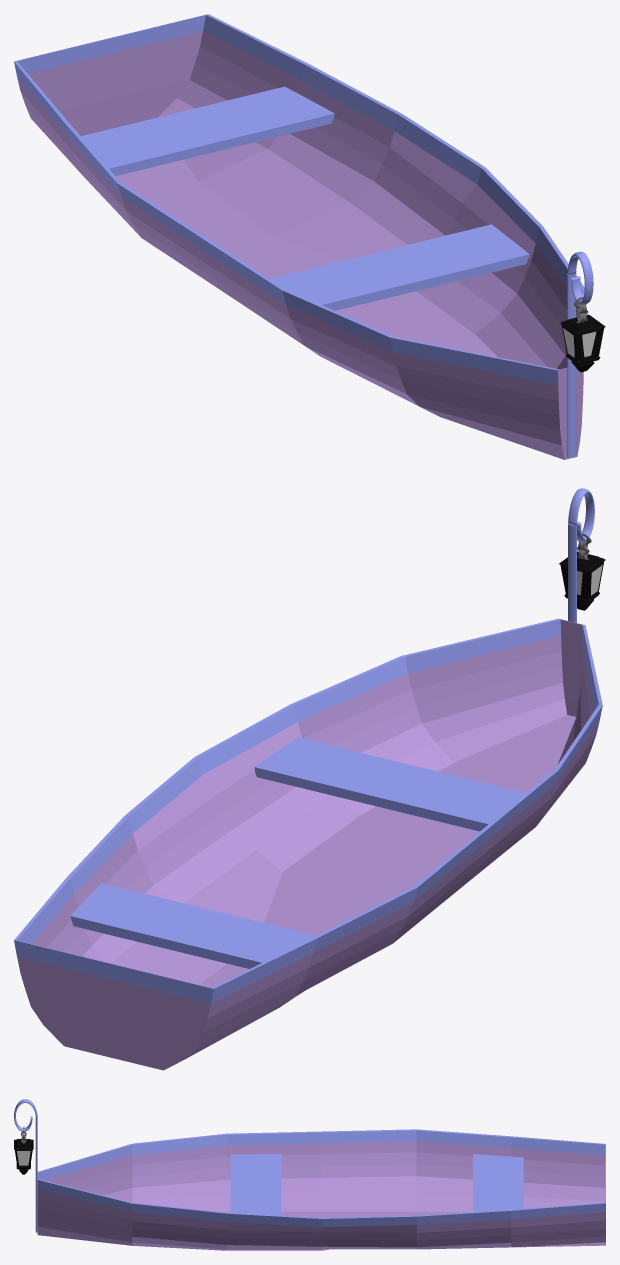
File: Ferry_Boat_Model.fbx
3 views of the same model, one above another, from view 1: azimuth 30°, elevation 25°; view 2: azimuth 150°, elevation 25°; view 3: azimuth 270°, elevation 25° (orthographic). The views are drawn at different scales.
Visible parts, largest first — view 1: Cube.001; view 2: Cube.001; view 3: Cube.001.
Part boxes in pixels (x1,y1,x2,y2): Cube.001: (14,14,605,459); Cube.001: (14,488,605,1070); Cube.001: (14,1099,605,1250).
Size of the model in its own units: 32.36 by 22.48 by 90.3.
